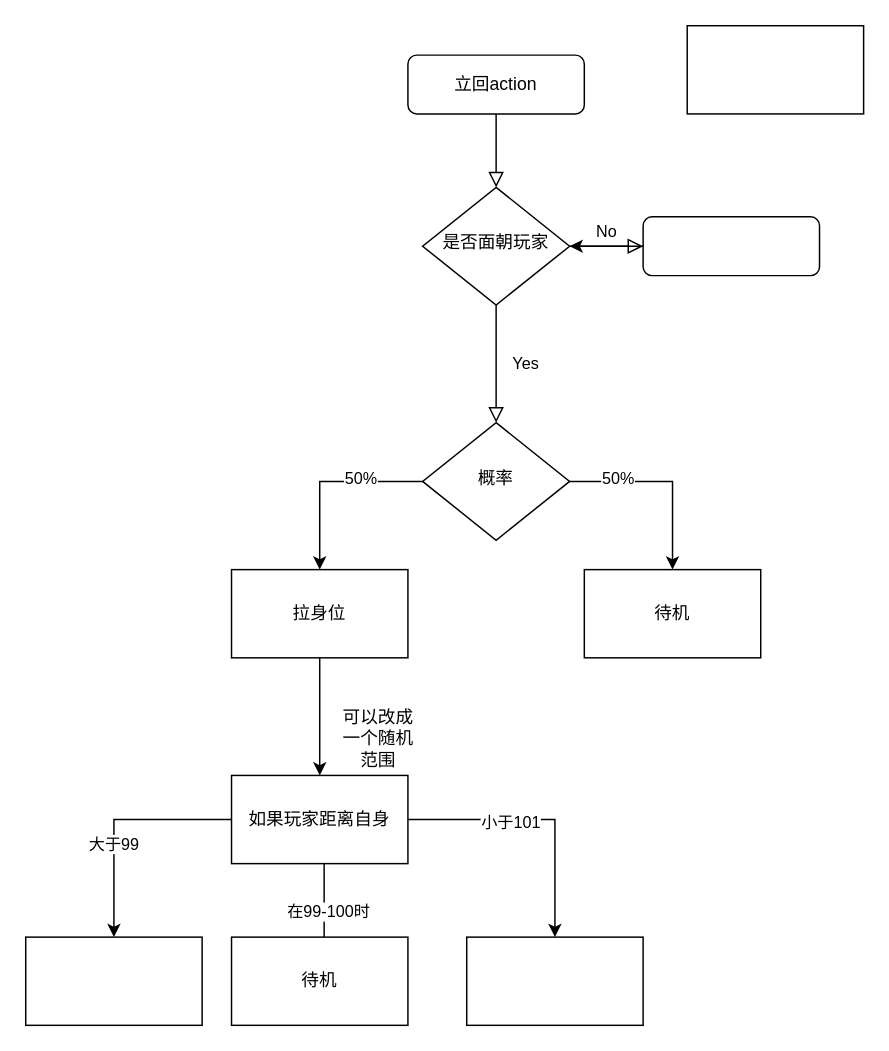
Some shapes in this 889 by 1051 pixel diagram are drawn without their labels. The shapes that lost their labels are listed below. From the top down, each one's centre as x and y in pixels, then its label:
the point at 775,69: 随机时长,3-5秒,安全输出时间,随阶段缩短,最短为0.5秒
the point at 731,245: 修改朝向
the point at 113,980: 播放行走动画,向玩家靠近,直到距离小于100
the point at 554,980: 播放倒放的行走动画,向玩家远离,直到距离大于100
